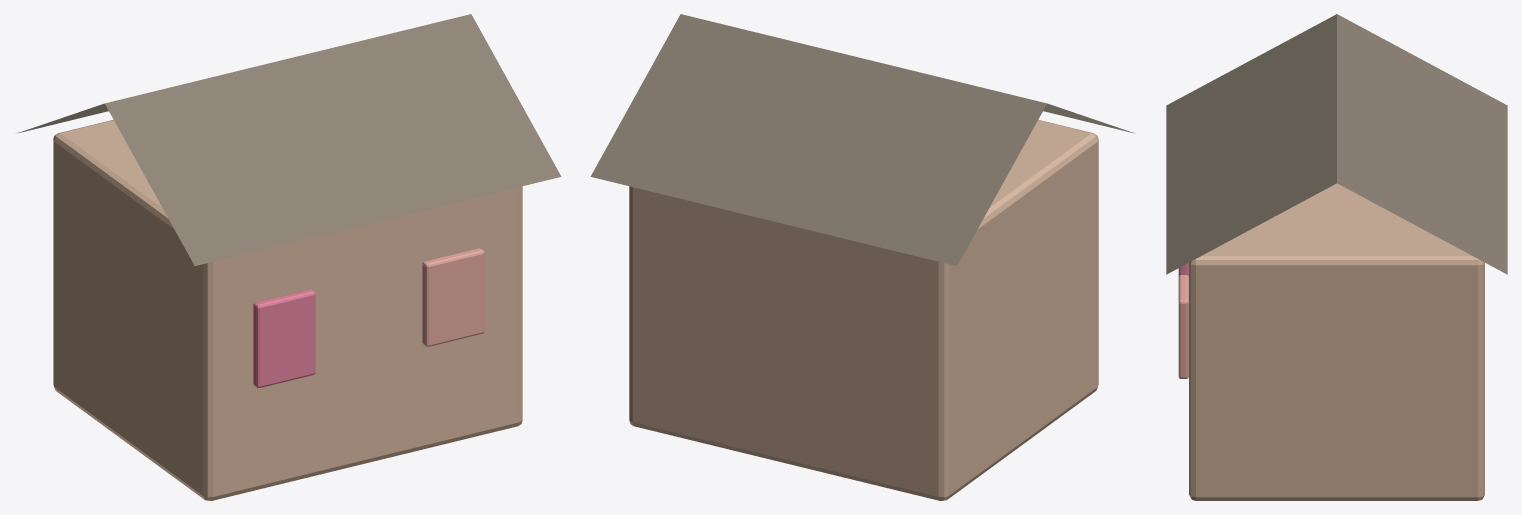
File: WC_RIVER_Background_House_A.glb
3 views of the same model, side by side, from view 1: azimuth 30°, elevation 25°; view 2: azimuth 150°, elevation 25°; view 3: azimuth 270°, elevation 25° (orthographic). The views are drawn at different scales.
Visible parts, largest first — view 1: WC_RIVER_Background_House_A_RenderMesh; view 2: WC_RIVER_Background_House_A_RenderMesh; view 3: WC_RIVER_Background_House_A_RenderMesh.
Boxes of the visible parts, box(x1,y1,x2,y2) form: WC_RIVER_Background_House_A_RenderMesh: box(17, 14, 561, 500); WC_RIVER_Background_House_A_RenderMesh: box(590, 14, 1134, 500); WC_RIVER_Background_House_A_RenderMesh: box(1166, 14, 1507, 500).
Bounding box in the file's own units: 2.3 × 2.1 × 1.96.
